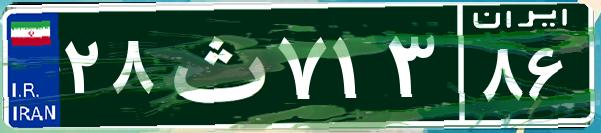1: (330, 28, 385, 110)
2: (57, 26, 110, 107)
3: (385, 28, 445, 110)
6: (525, 38, 570, 115)
7: (273, 28, 330, 110)
8: (475, 38, 525, 113), (110, 28, 158, 105)
ث: (158, 15, 273, 115)
